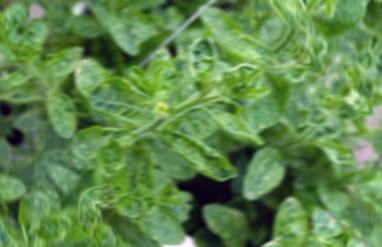Tomato leaf mosaic virus: (79, 57, 171, 145), (160, 119, 244, 197), (23, 77, 94, 145), (110, 188, 157, 232), (253, 231, 312, 247)
